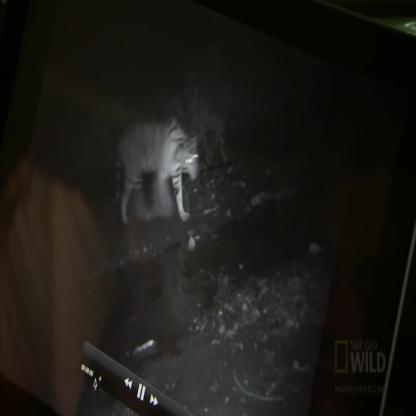Tiger: (113, 112, 205, 238)
